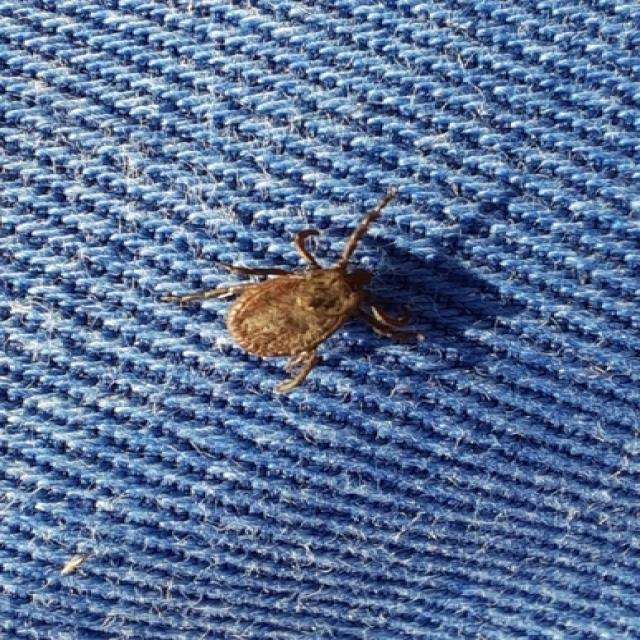Dermacentor Reticulatus-F: (157, 184, 410, 393)
